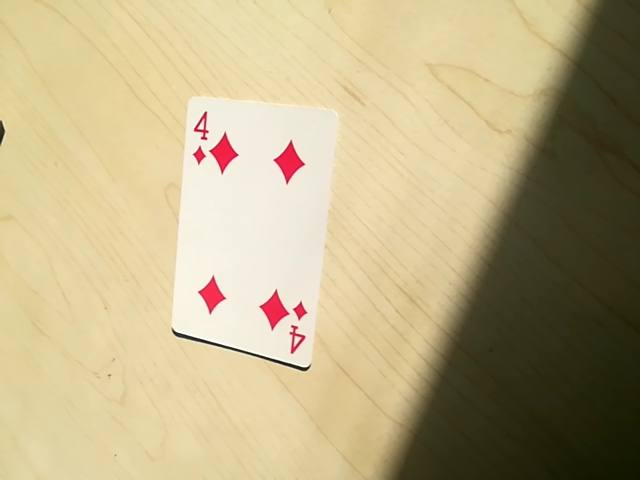fk 4: (186, 111, 224, 170), (277, 300, 310, 359)
